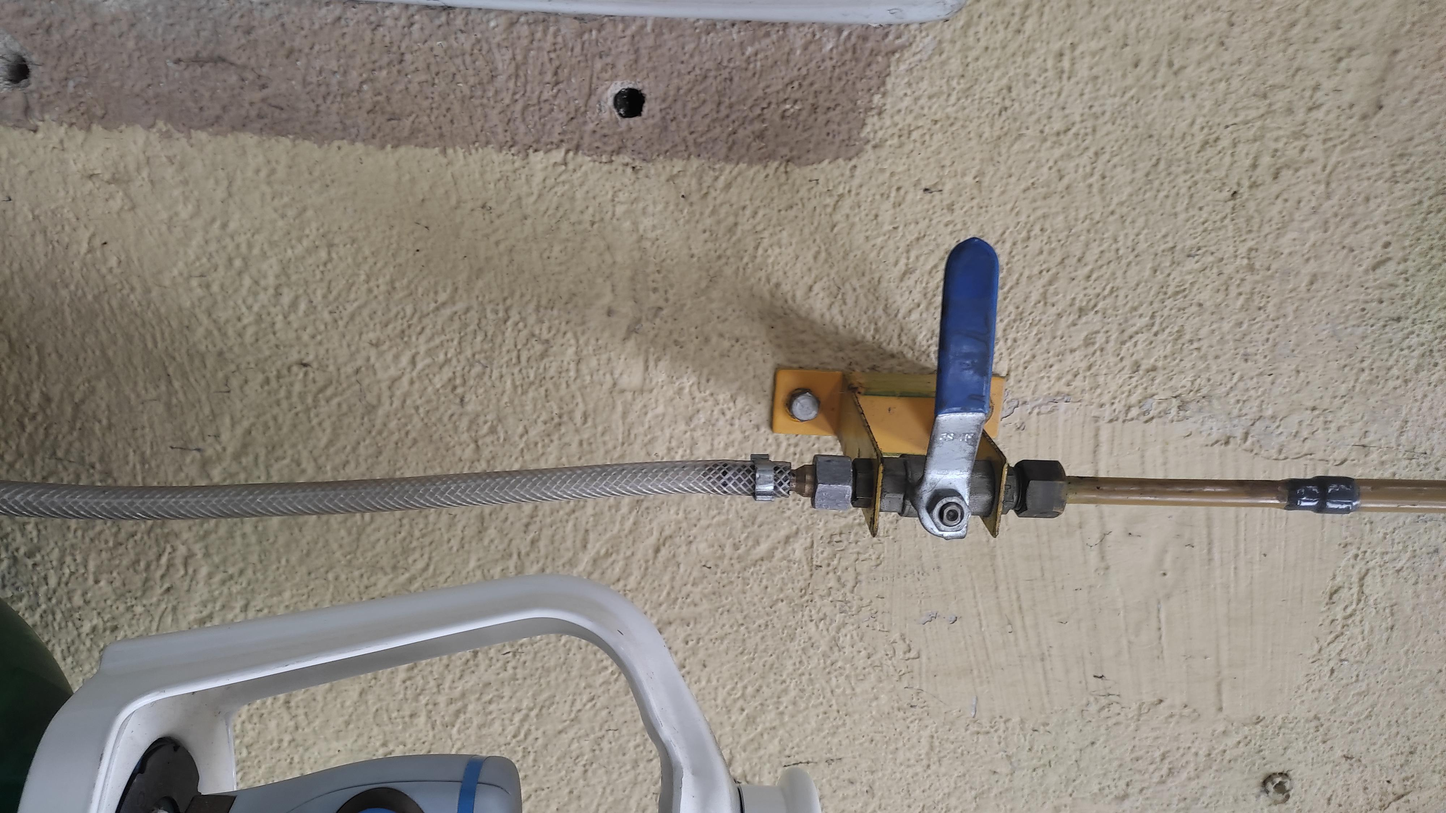closed valve: (865, 230, 1032, 543)
